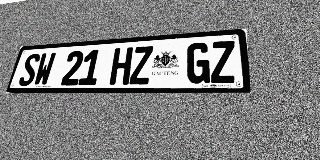1: (78, 49, 102, 85)
2: (61, 50, 85, 86)
G: (186, 42, 210, 84)
H: (109, 47, 133, 85)
S: (17, 53, 41, 86)
W: (33, 52, 56, 86)
Z: (211, 40, 236, 83), (129, 46, 153, 85)
